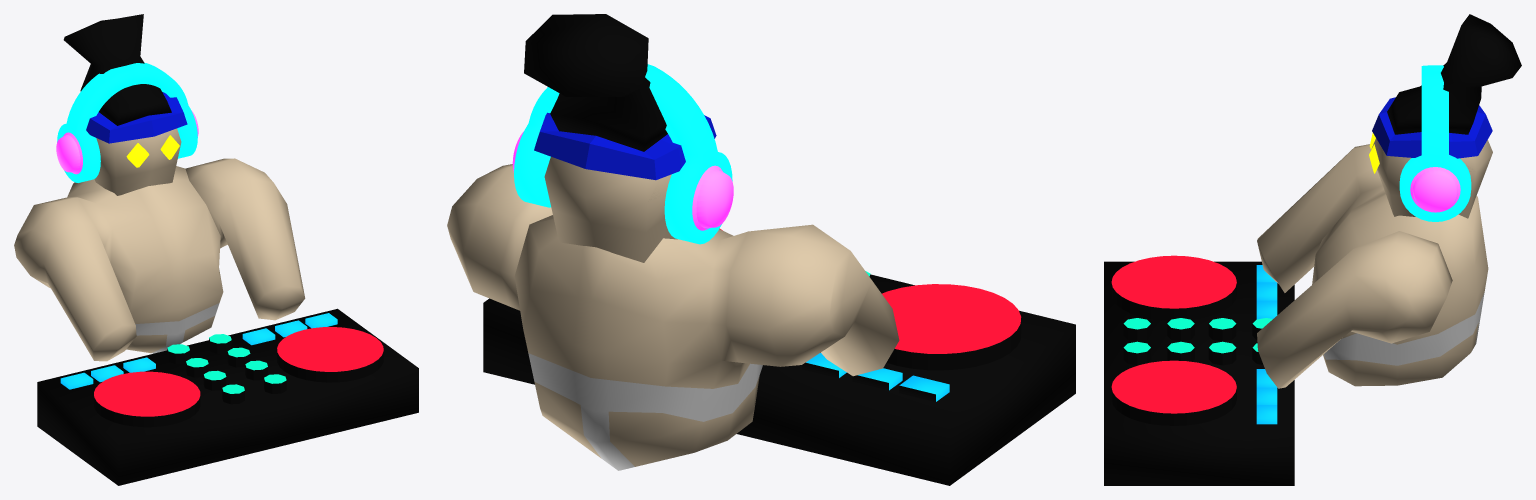
Rendered from DJDiscordia.fbx.
The picture shows the model from 3 angles, left to right: view 1: azimuth 30°, elevation 25°; view 2: azimuth 150°, elevation 25°; view 3: azimuth 270°, elevation 25°; orthographic projection. The views are drawn at different scales.
Parts seen in each view (by area): view 1: Cube.001, Cube.012, Cube.008; view 2: Cube.001, Cube.012, Cube.008; view 3: Cube.001, Cube.012, Cube.008.
Part boxes in pixels (x1,y1,x2,y2): Cube.001: [14, 14, 305, 361]; Cube.012: [37, 308, 418, 485]; Cube.008: [135, 303, 219, 353]; Cube.001: [447, 14, 899, 466]; Cube.012: [483, 228, 1075, 485]; Cube.008: [528, 353, 762, 470]; Cube.001: [1257, 14, 1521, 388]; Cube.012: [1104, 255, 1294, 485]; Cube.008: [1323, 292, 1484, 365].
Size of the model in its own units: 1221 by 1240 by 1254.
